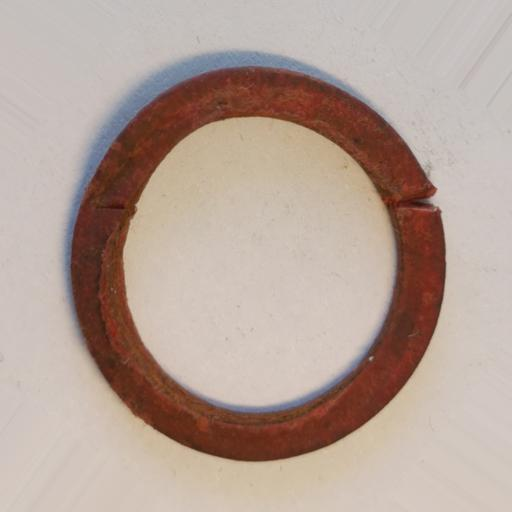defect: (387, 186, 441, 216), (92, 197, 130, 214)
